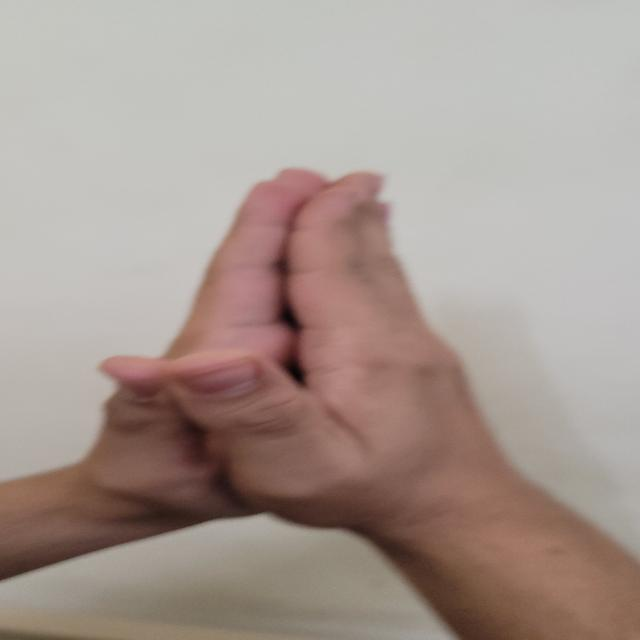Thank You: (63, 154, 554, 640)
